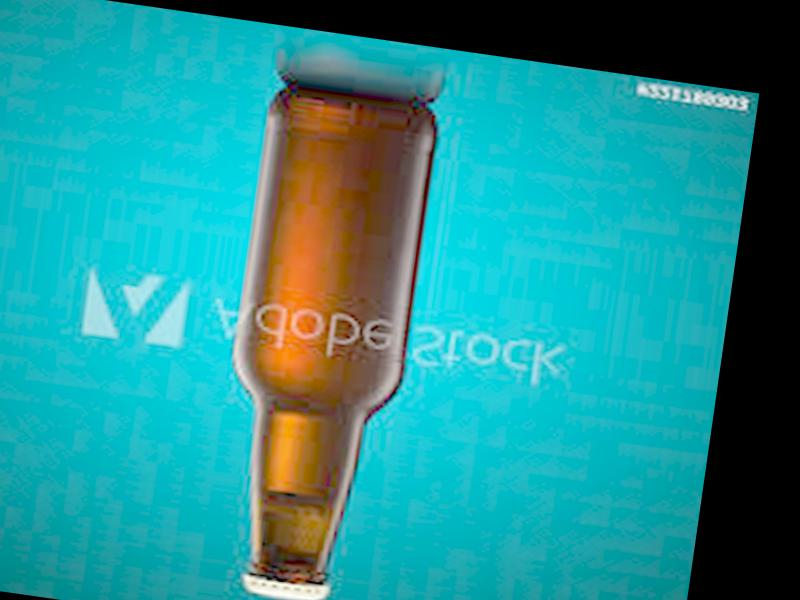Beer: (200, 80, 445, 600)
